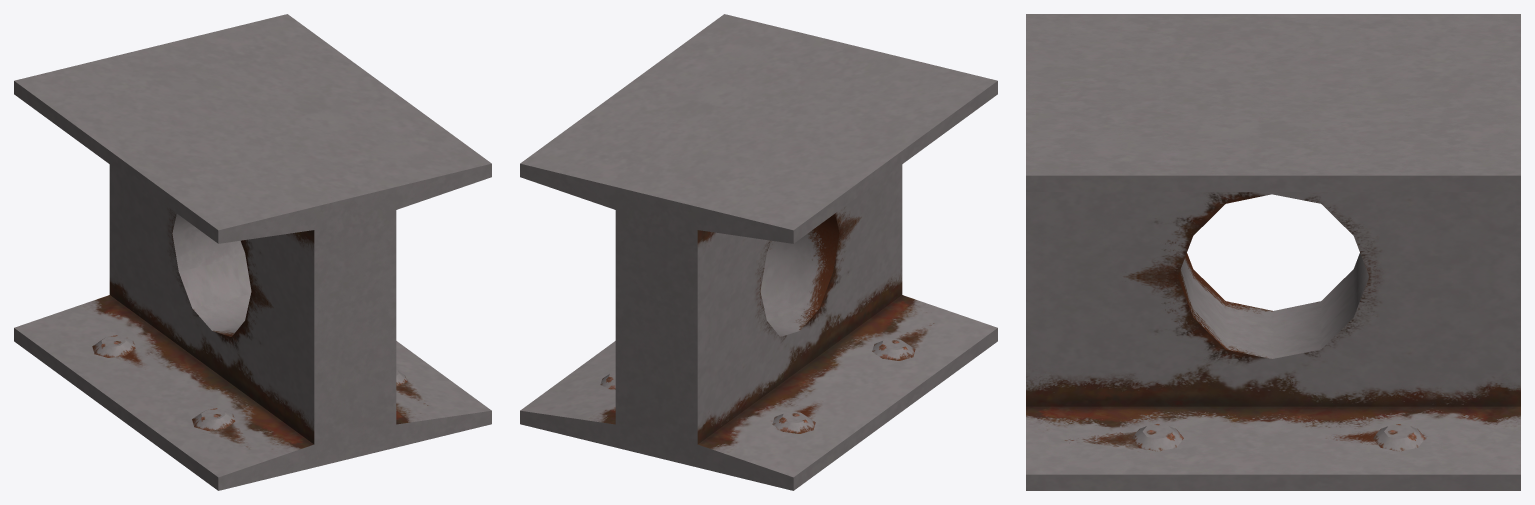
The model's file is Girderpiece.FBX.
The picture shows the model from 3 angles, left to right: view 1: azimuth 30°, elevation 25°; view 2: azimuth 150°, elevation 25°; view 3: azimuth 270°, elevation 25°; orthographic projection. The views are drawn at different scales.
Visible parts, largest first — view 1: Girderpiece; view 2: Girderpiece; view 3: Girderpiece.
Boxes of the visible parts, x1,y1,x2,y2 form: Girderpiece: (14, 14, 491, 490); Girderpiece: (520, 14, 997, 490); Girderpiece: (1026, 14, 1520, 490).
Bounding box in the file's own units: 10 × 9.1 × 12.94.
